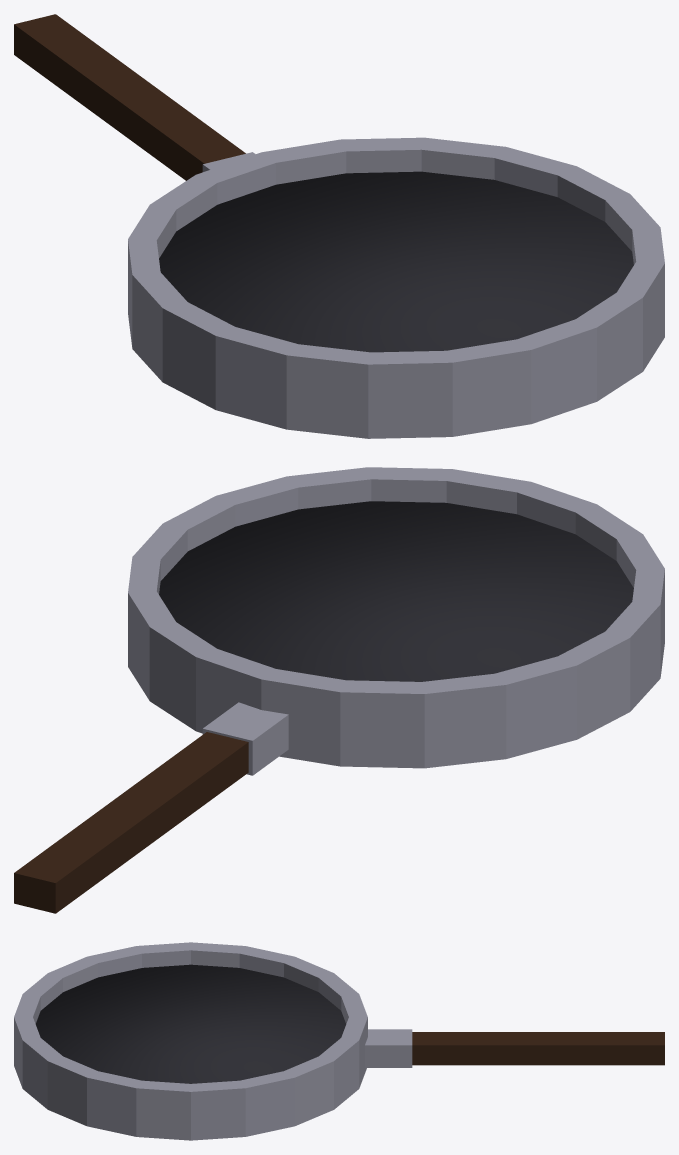
Rendered from w_pan.glb.
3 views of the same model, one above another, from view 1: azimuth 30°, elevation 25°; view 2: azimuth 150°, elevation 25°; view 3: azimuth 270°, elevation 25° (orthographic). The views are drawn at different scales.
Parts seen in each view (by area): view 1: w_pan_rim, w_pan_iron, w_pan_handle; view 2: w_pan_rim, w_pan_iron, w_pan_handle; view 3: w_pan_rim, w_pan_iron, w_pan_handle.
Boxes of the visible parts, x1=… form: w_pan_rim: x1=128, y1=137, x2=664, y2=438; w_pan_iron: x1=159, y1=171, x2=633, y2=352; w_pan_handle: x1=14, y1=14, x2=245, y2=180; w_pan_rim: x1=128, y1=467, x2=664, y2=775; w_pan_iron: x1=159, y1=501, x2=633, y2=681; w_pan_handle: x1=14, y1=732, x2=248, y2=913; w_pan_rim: x1=14, y1=942, x2=412, y2=1140; w_pan_iron: x1=35, y1=964, x2=346, y2=1083; w_pan_handle: x1=412, y1=1032, x2=664, y2=1065.
Bounding box in the file's own units: 0.56 × 0.085 × 1.03.
